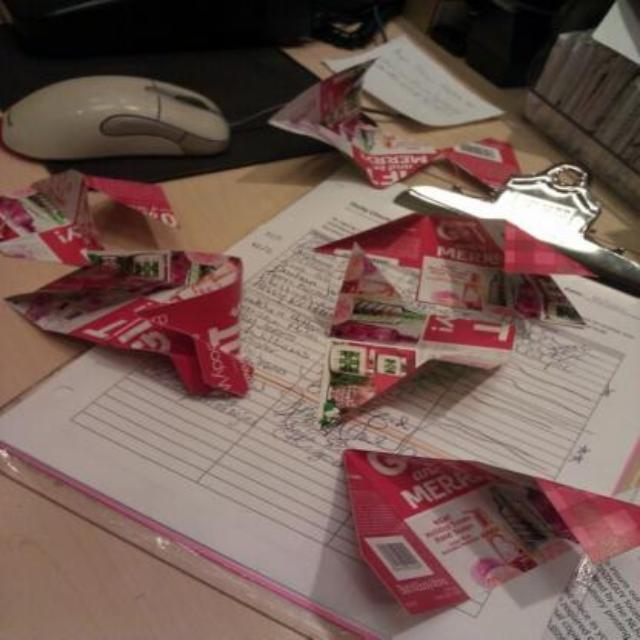Computer-Mouse: (0, 60, 262, 174)
